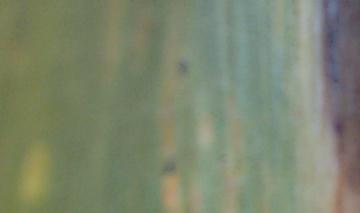tarspot: (323, 1, 340, 85), (159, 159, 176, 179), (175, 58, 190, 77), (333, 118, 345, 135)
